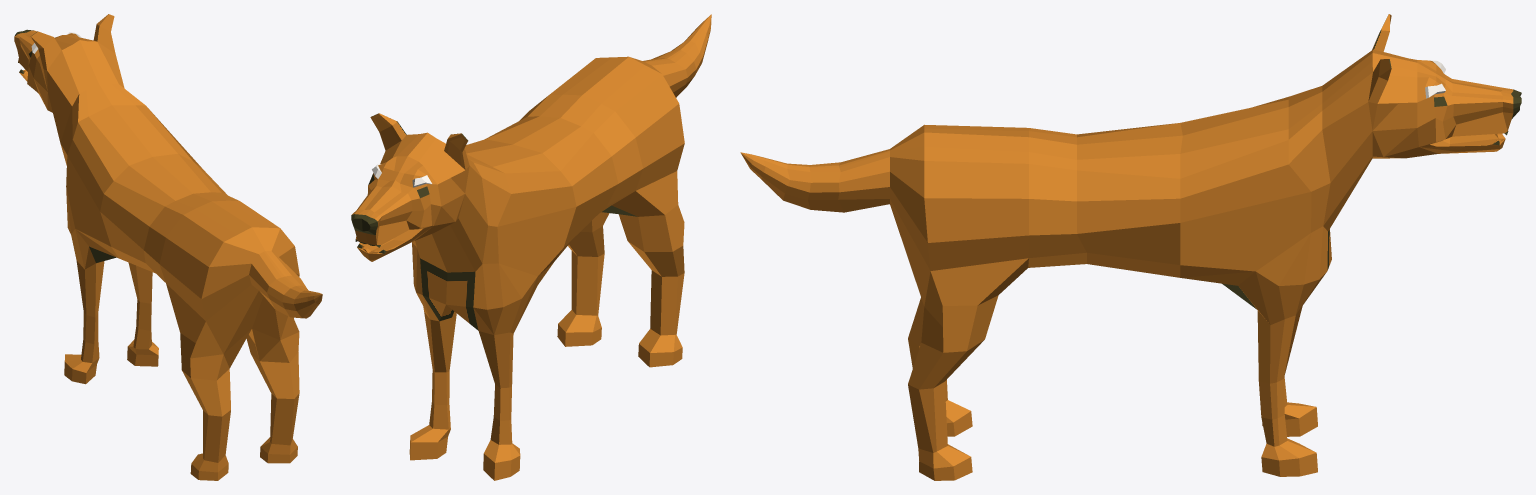
File: DogBrown.obj
3 renders of one model, left to right at view 1: azimuth 30°, elevation 25°; view 2: azimuth 150°, elevation 25°; view 3: azimuth 270°, elevation 25°, orthographic. The views are drawn at different scales.
Parts seen in each view (by area): view 1: Cylinder; view 2: Cylinder; view 3: Cylinder.
Boxes of the visible parts, bbox=[...] form: Cylinder: bbox=[14, 14, 322, 480]; Cylinder: bbox=[351, 14, 711, 480]; Cylinder: bbox=[740, 14, 1521, 480].
Size of the model in its own units: 2.08 by 5.77 by 9.89.
Materials: 1 (1 with a texture image).
